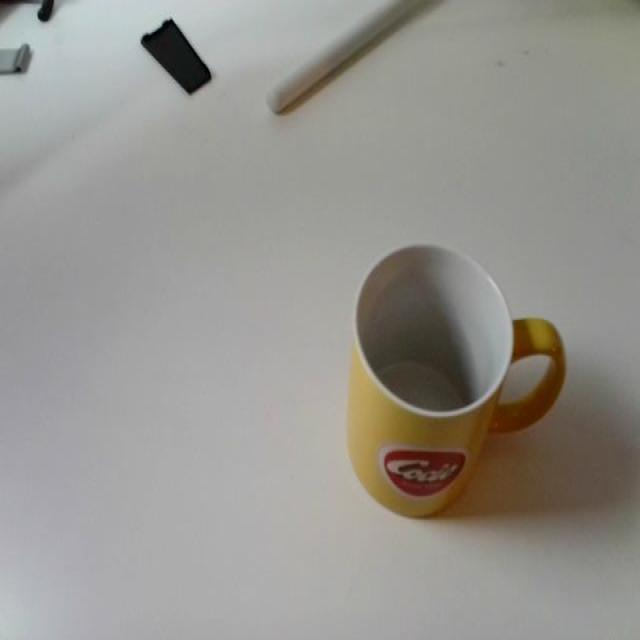cup: (325, 235, 575, 533)
